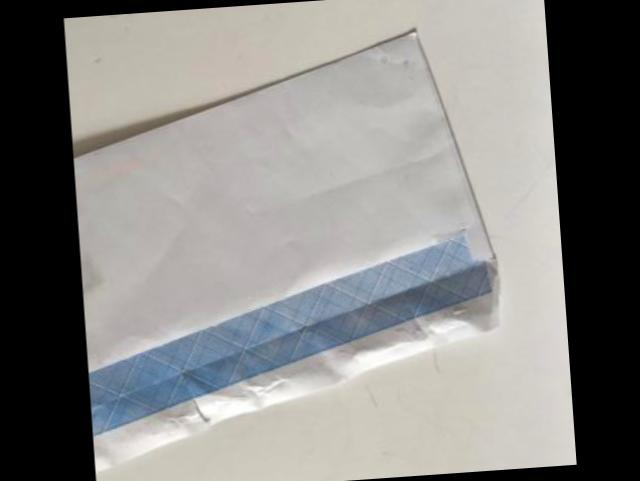cardboard paper: (73, 34, 500, 473)
